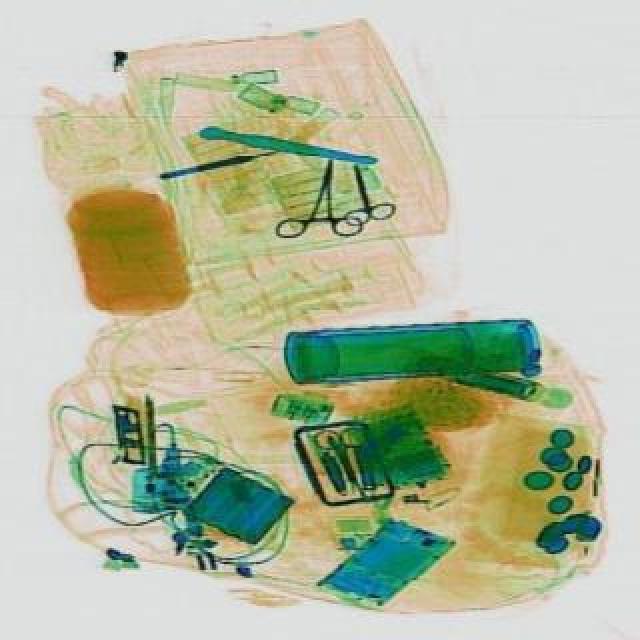pliers: (280, 154, 376, 246), (334, 154, 402, 228), (314, 422, 382, 490)
